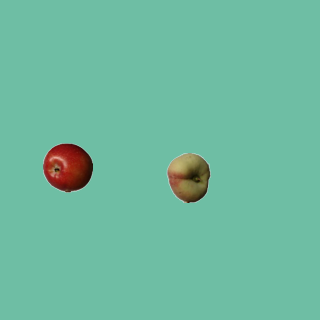Apple Braeburn: (42, 142, 92, 192)
Peach Flat: (163, 152, 213, 202)
